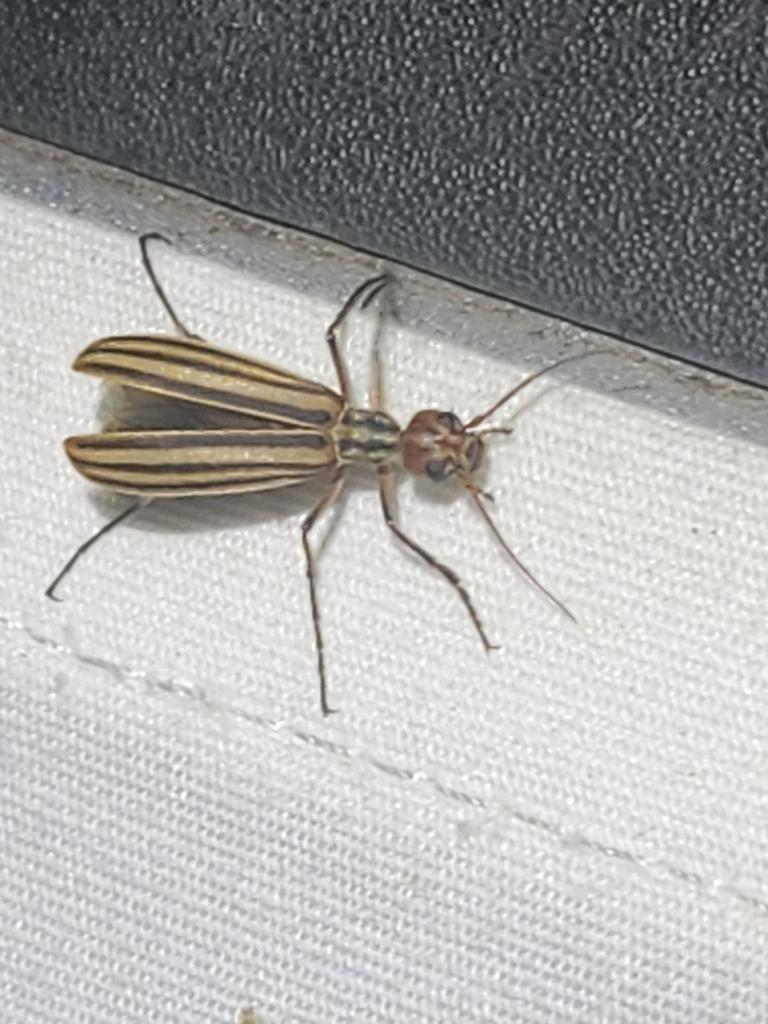blister_beetle: (7, 162, 670, 761)
